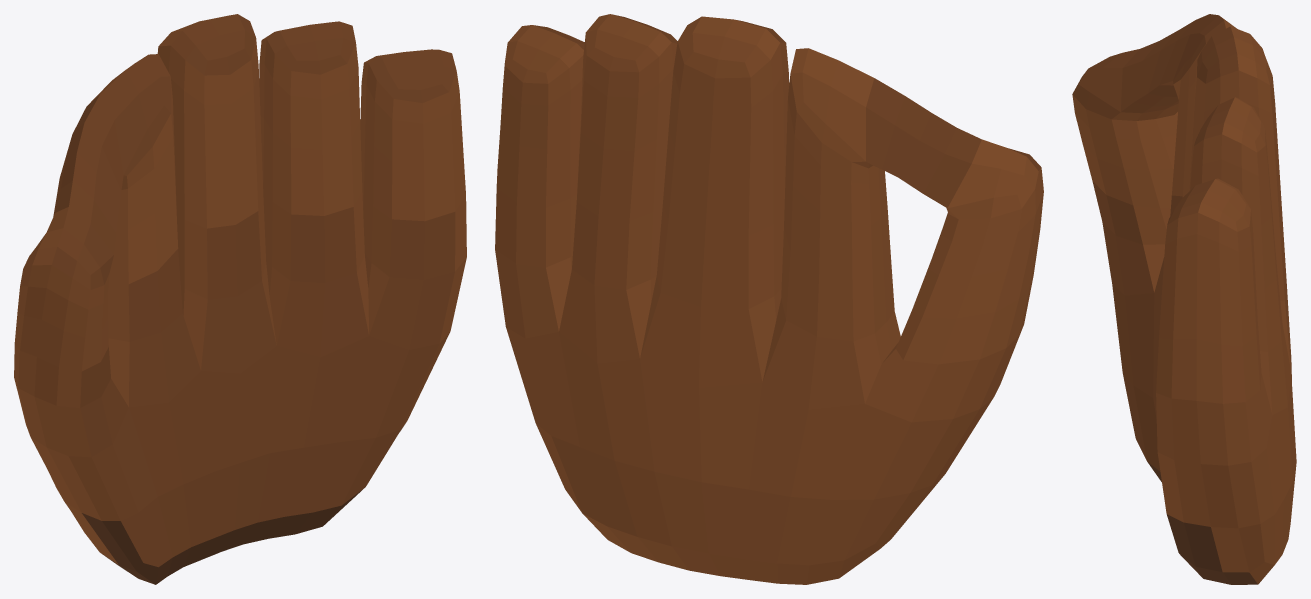
The model's file is GuanteAnim.glb.
3 views of the same model, side by side, from view 1: azimuth 30°, elevation 25°; view 2: azimuth 150°, elevation 25°; view 3: azimuth 270°, elevation 25° (orthographic). The views are drawn at different scales.
Visible parts, largest first — view 1: Cube; view 2: Cube; view 3: Cube.
Part boxes in pixels (x1,y1,x2,y2): Cube: (14,14,466,584); Cube: (495,14,1043,584); Cube: (1072,14,1296,584).
Size of the model in its own units: 2.12 by 2.27 by 0.9131.
Materials: 1 (1 with a texture image).
